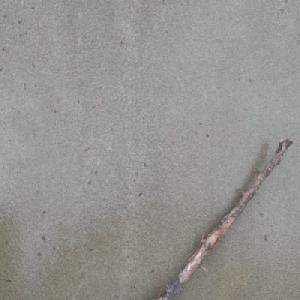Wood: (155, 136, 293, 300)
